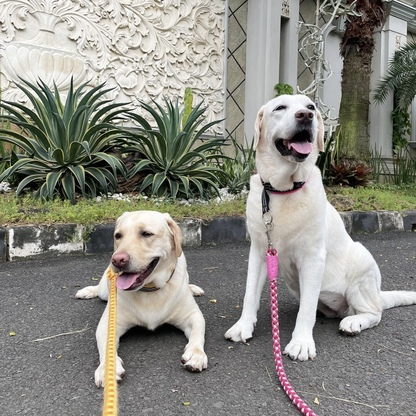labrado: (219, 91, 416, 377), (68, 206, 213, 395)
